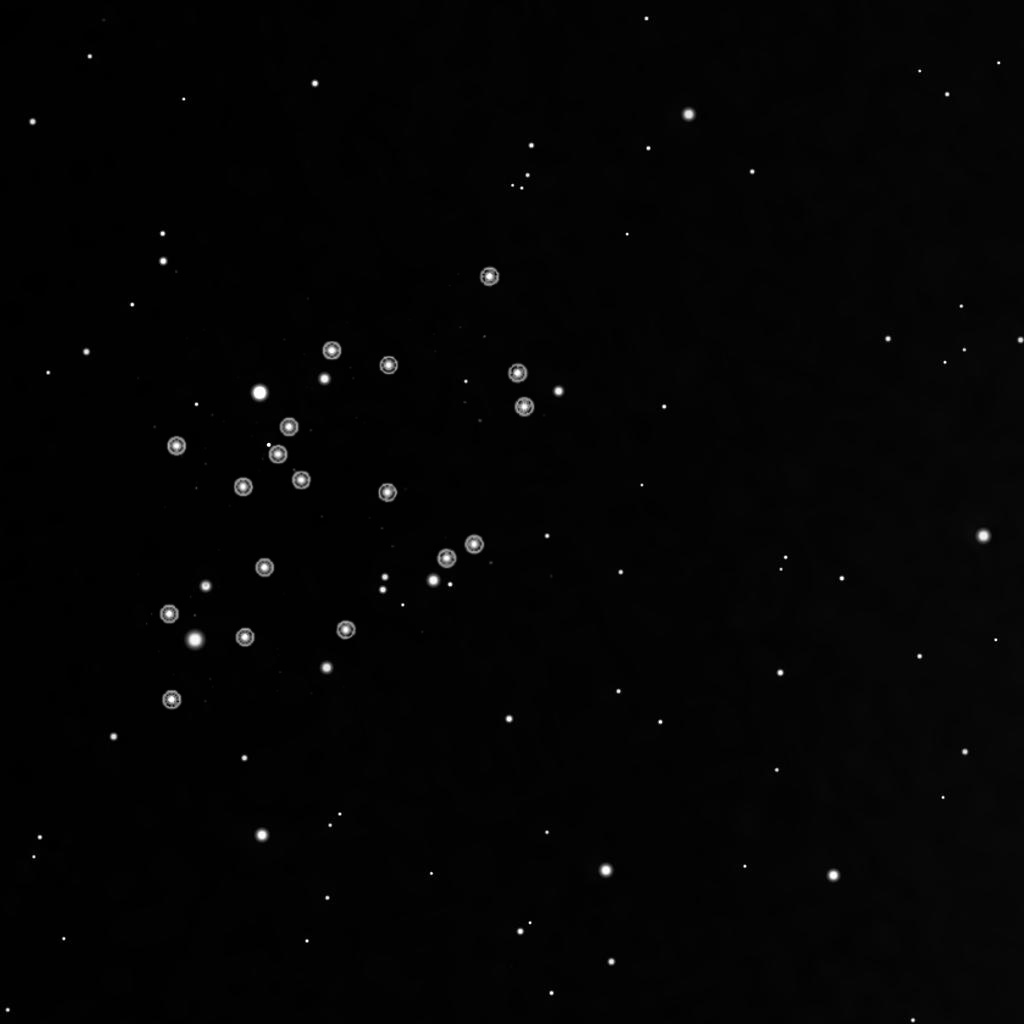canis_major: (229, 333, 404, 502)
